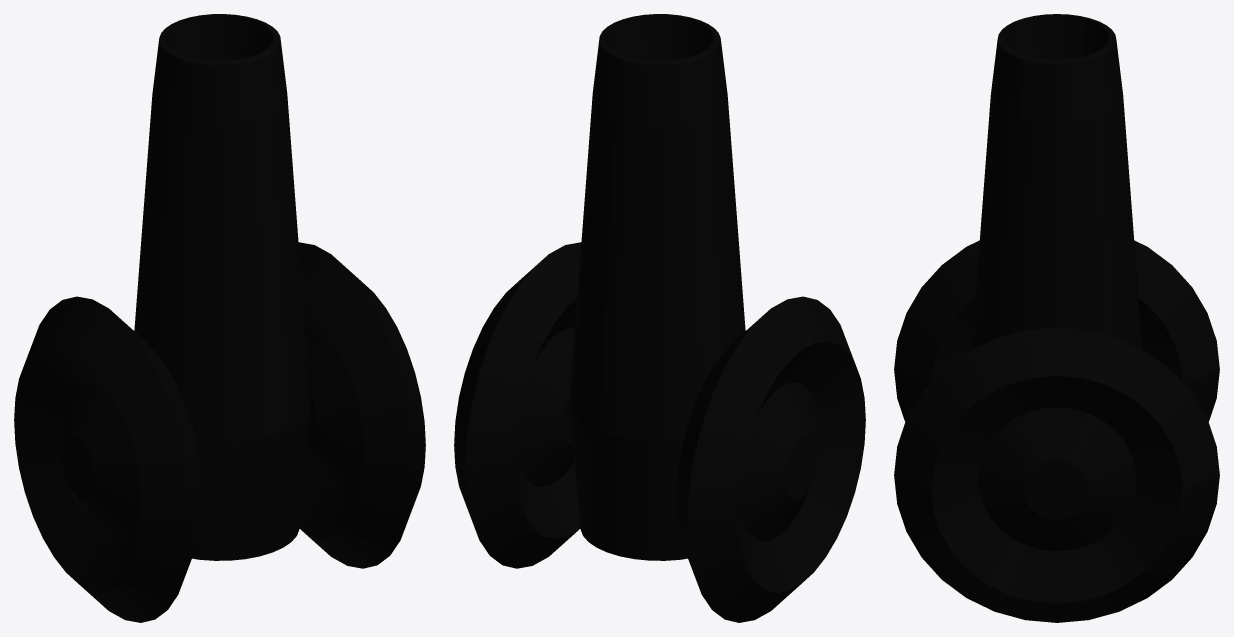
The model's file is Cannon.obj.
3 renders of one model, left to right at view 1: azimuth 30°, elevation 25°; view 2: azimuth 150°, elevation 25°; view 3: azimuth 270°, elevation 25°, orthographic. The views are drawn at different scales.
Parts seen in each view (by area): view 1: Cannon.001_大砲_円柱.007; view 2: Cannon.001_大砲_円柱.007; view 3: Cannon.001_大砲_円柱.007.
Boxes of the visible parts, <box> form: Cannon.001_大砲_円柱.007: <box>14,14,425,622</box>; Cannon.001_大砲_円柱.007: <box>454,14,865,622</box>; Cannon.001_大砲_円柱.007: <box>894,14,1219,622</box>.
Size of the model in its own units: 3.6 by 6.64 by 3.68.
Materials: 1 (1 with a texture image).
